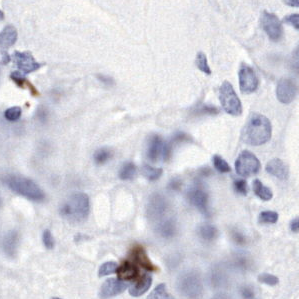Lymphocyte: (116, 244, 160, 285)
